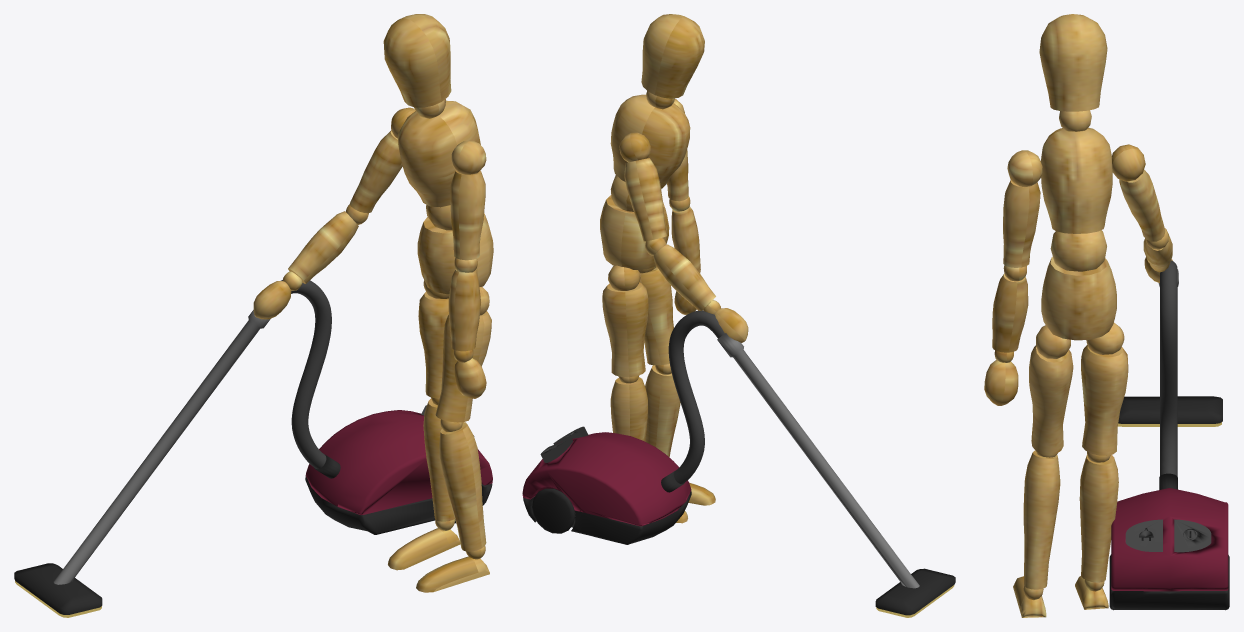
File: Human_Cleaning_01.obj
The picture shows the model from 3 angles, left to right: view 1: azimuth 30°, elevation 25°; view 2: azimuth 150°, elevation 25°; view 3: azimuth 270°, elevation 25°; orthographic projection. The views are drawn at different scales.
Visible parts, largest first — view 1: Human_Cleaning_01; view 2: Human_Cleaning_01; view 3: Human_Cleaning_01.
Part boxes in pixels (x1,y1,x2,y2): Human_Cleaning_01: (14,14,493,617); Human_Cleaning_01: (522,14,955,617); Human_Cleaning_01: (984,14,1229,617).
Size of the model in its own units: 0.596 by 0.7265 by 0.2803.
Materials: 7 (2 with a texture image).
